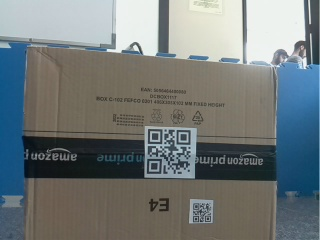caja: (27, 46, 276, 240)
